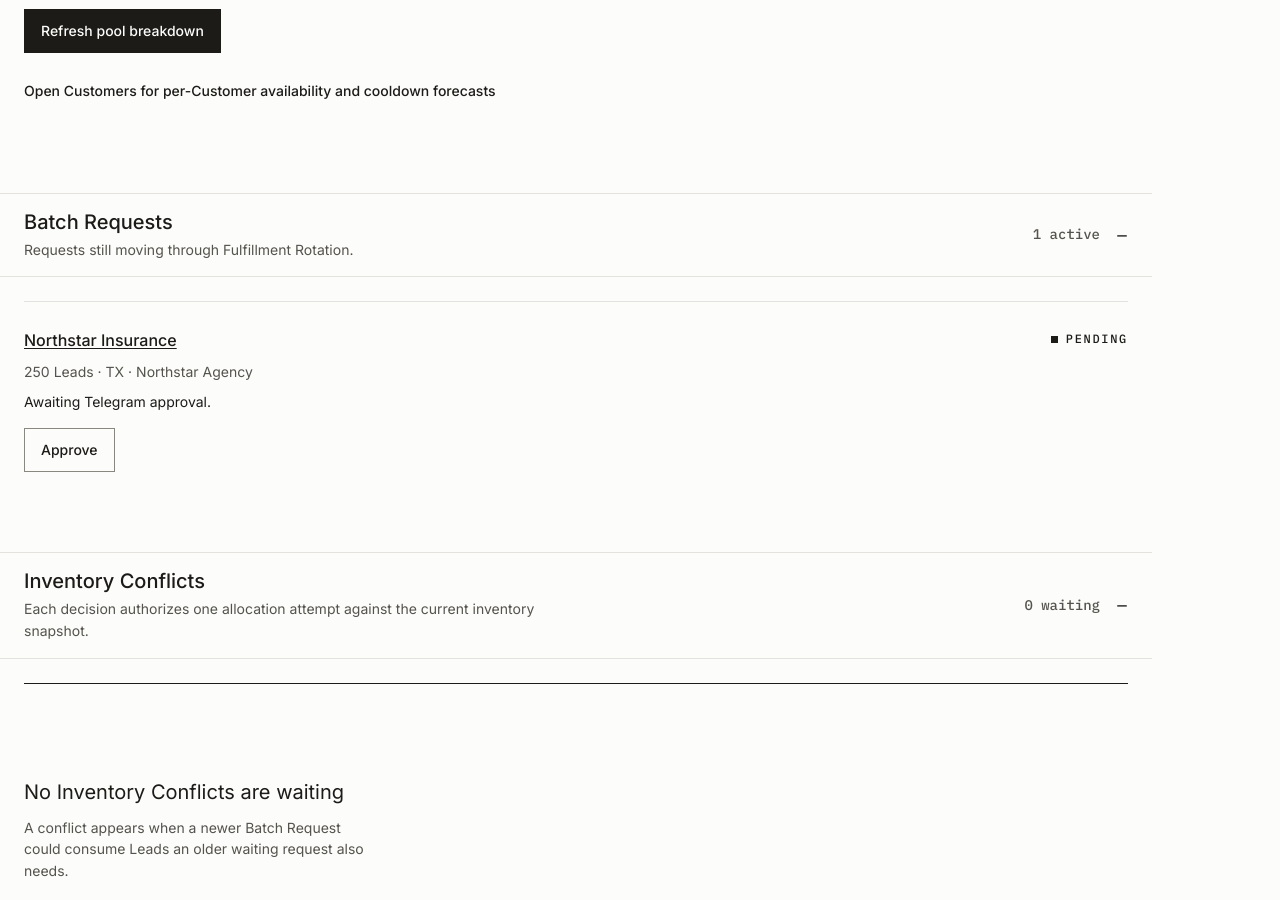
Scenario: confirming a consequential action › refuses to submit without a reason
(page scrolled)
Click the button "Approve".
click(69, 450)  # box left=24, top=428, right=115, bottom=472
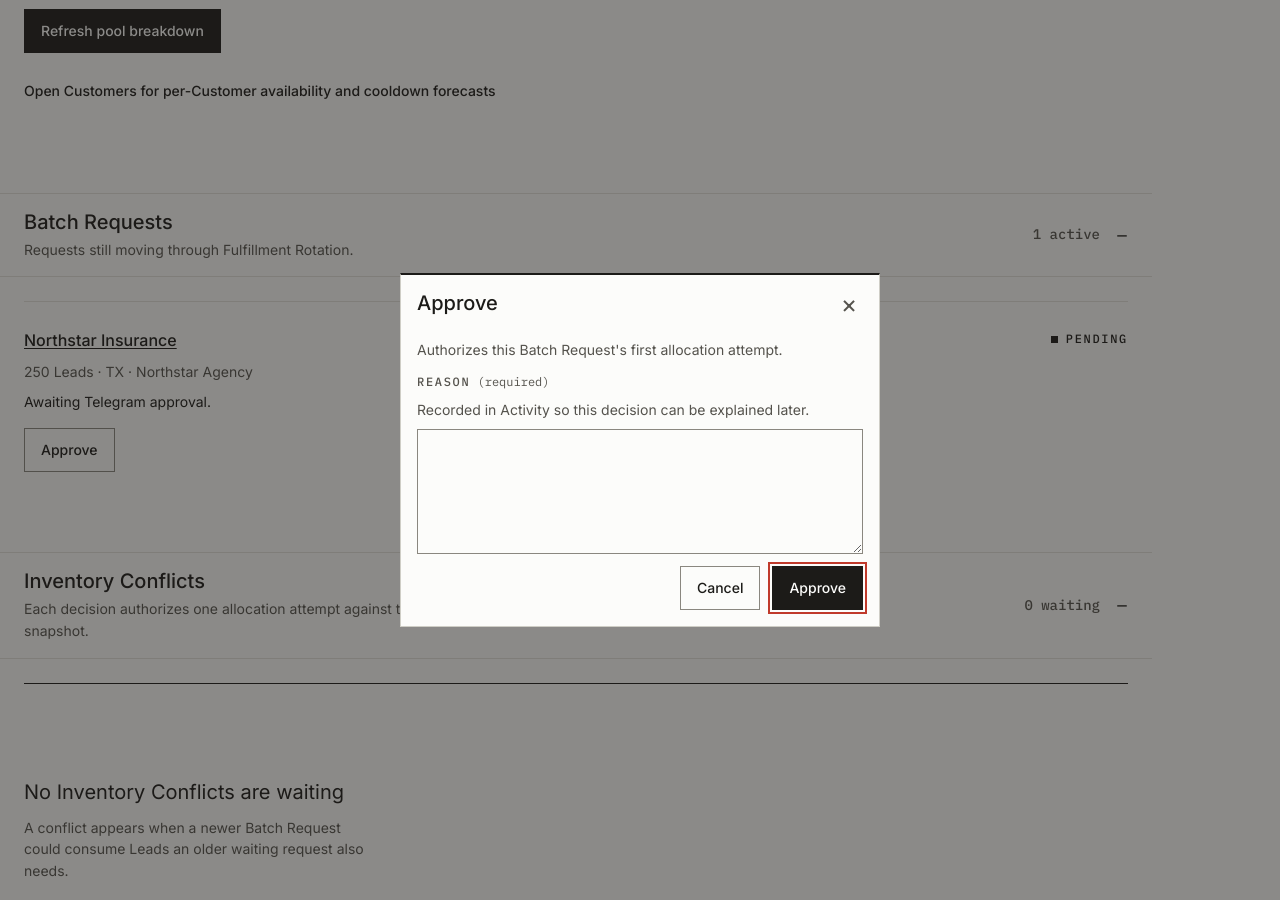
Click the button "Approve".
click(818, 588)  # box left=772, top=566, right=863, bottom=610
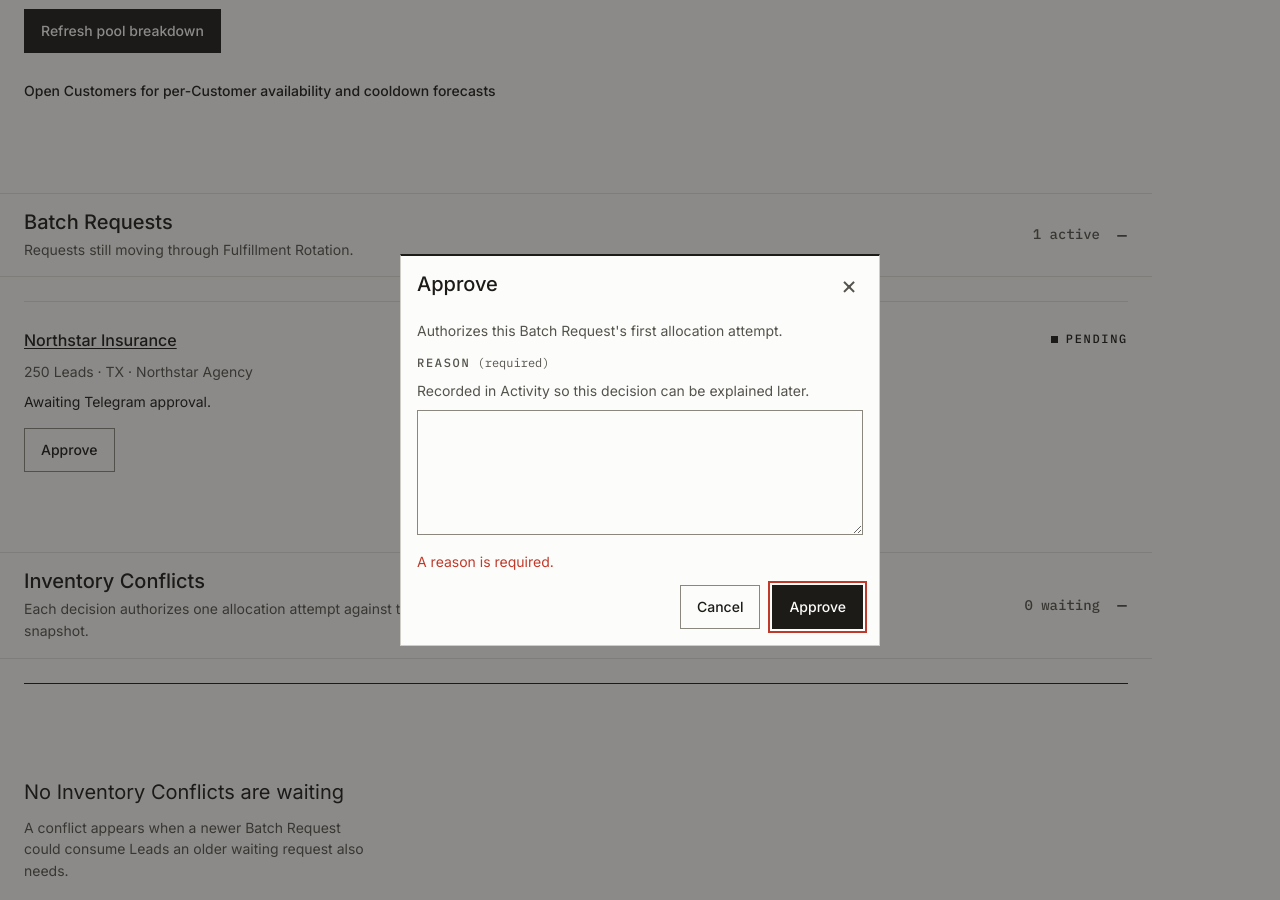
Expected: the text "A reason is required." is shown, left=417, top=553, right=554, bottom=570
